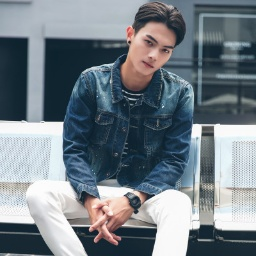face: (126, 2, 188, 77)
